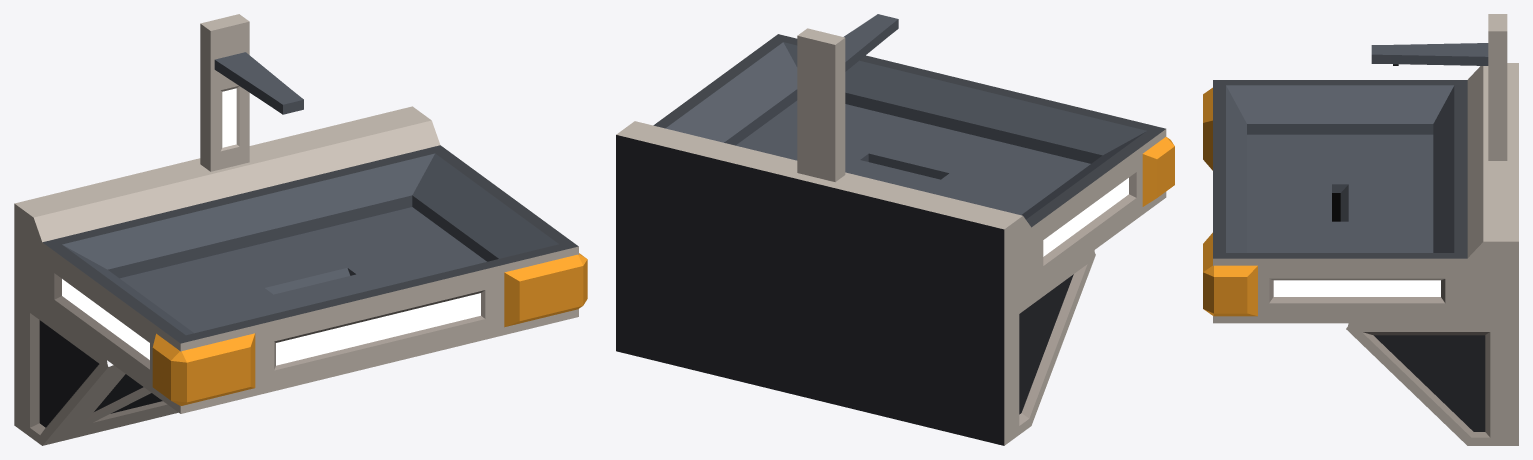
The model's file is SM_Sink.glb.
3 views of the same model, side by side, from view 1: azimuth 30°, elevation 25°; view 2: azimuth 150°, elevation 25°; view 3: azimuth 270°, elevation 25° (orthographic). The views are drawn at different scales.
Visible parts, largest first — view 1: SM_Sink; view 2: SM_Sink; view 3: SM_Sink.
Boxes of the visible parts, x1,y1,x2,y2 form: SM_Sink: [14, 14, 587, 445]; SM_Sink: [616, 14, 1174, 445]; SM_Sink: [1203, 14, 1518, 445].
Size of the model in its own units: 0.7661 by 0.6376 by 0.5466.
Materials: 2 (1 with a texture image).
